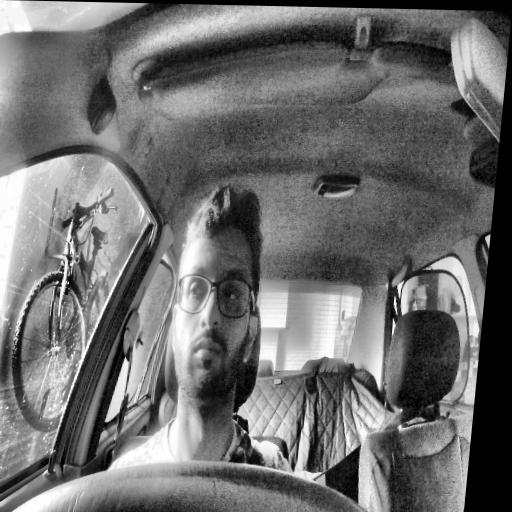awake: (161, 184, 272, 412)
